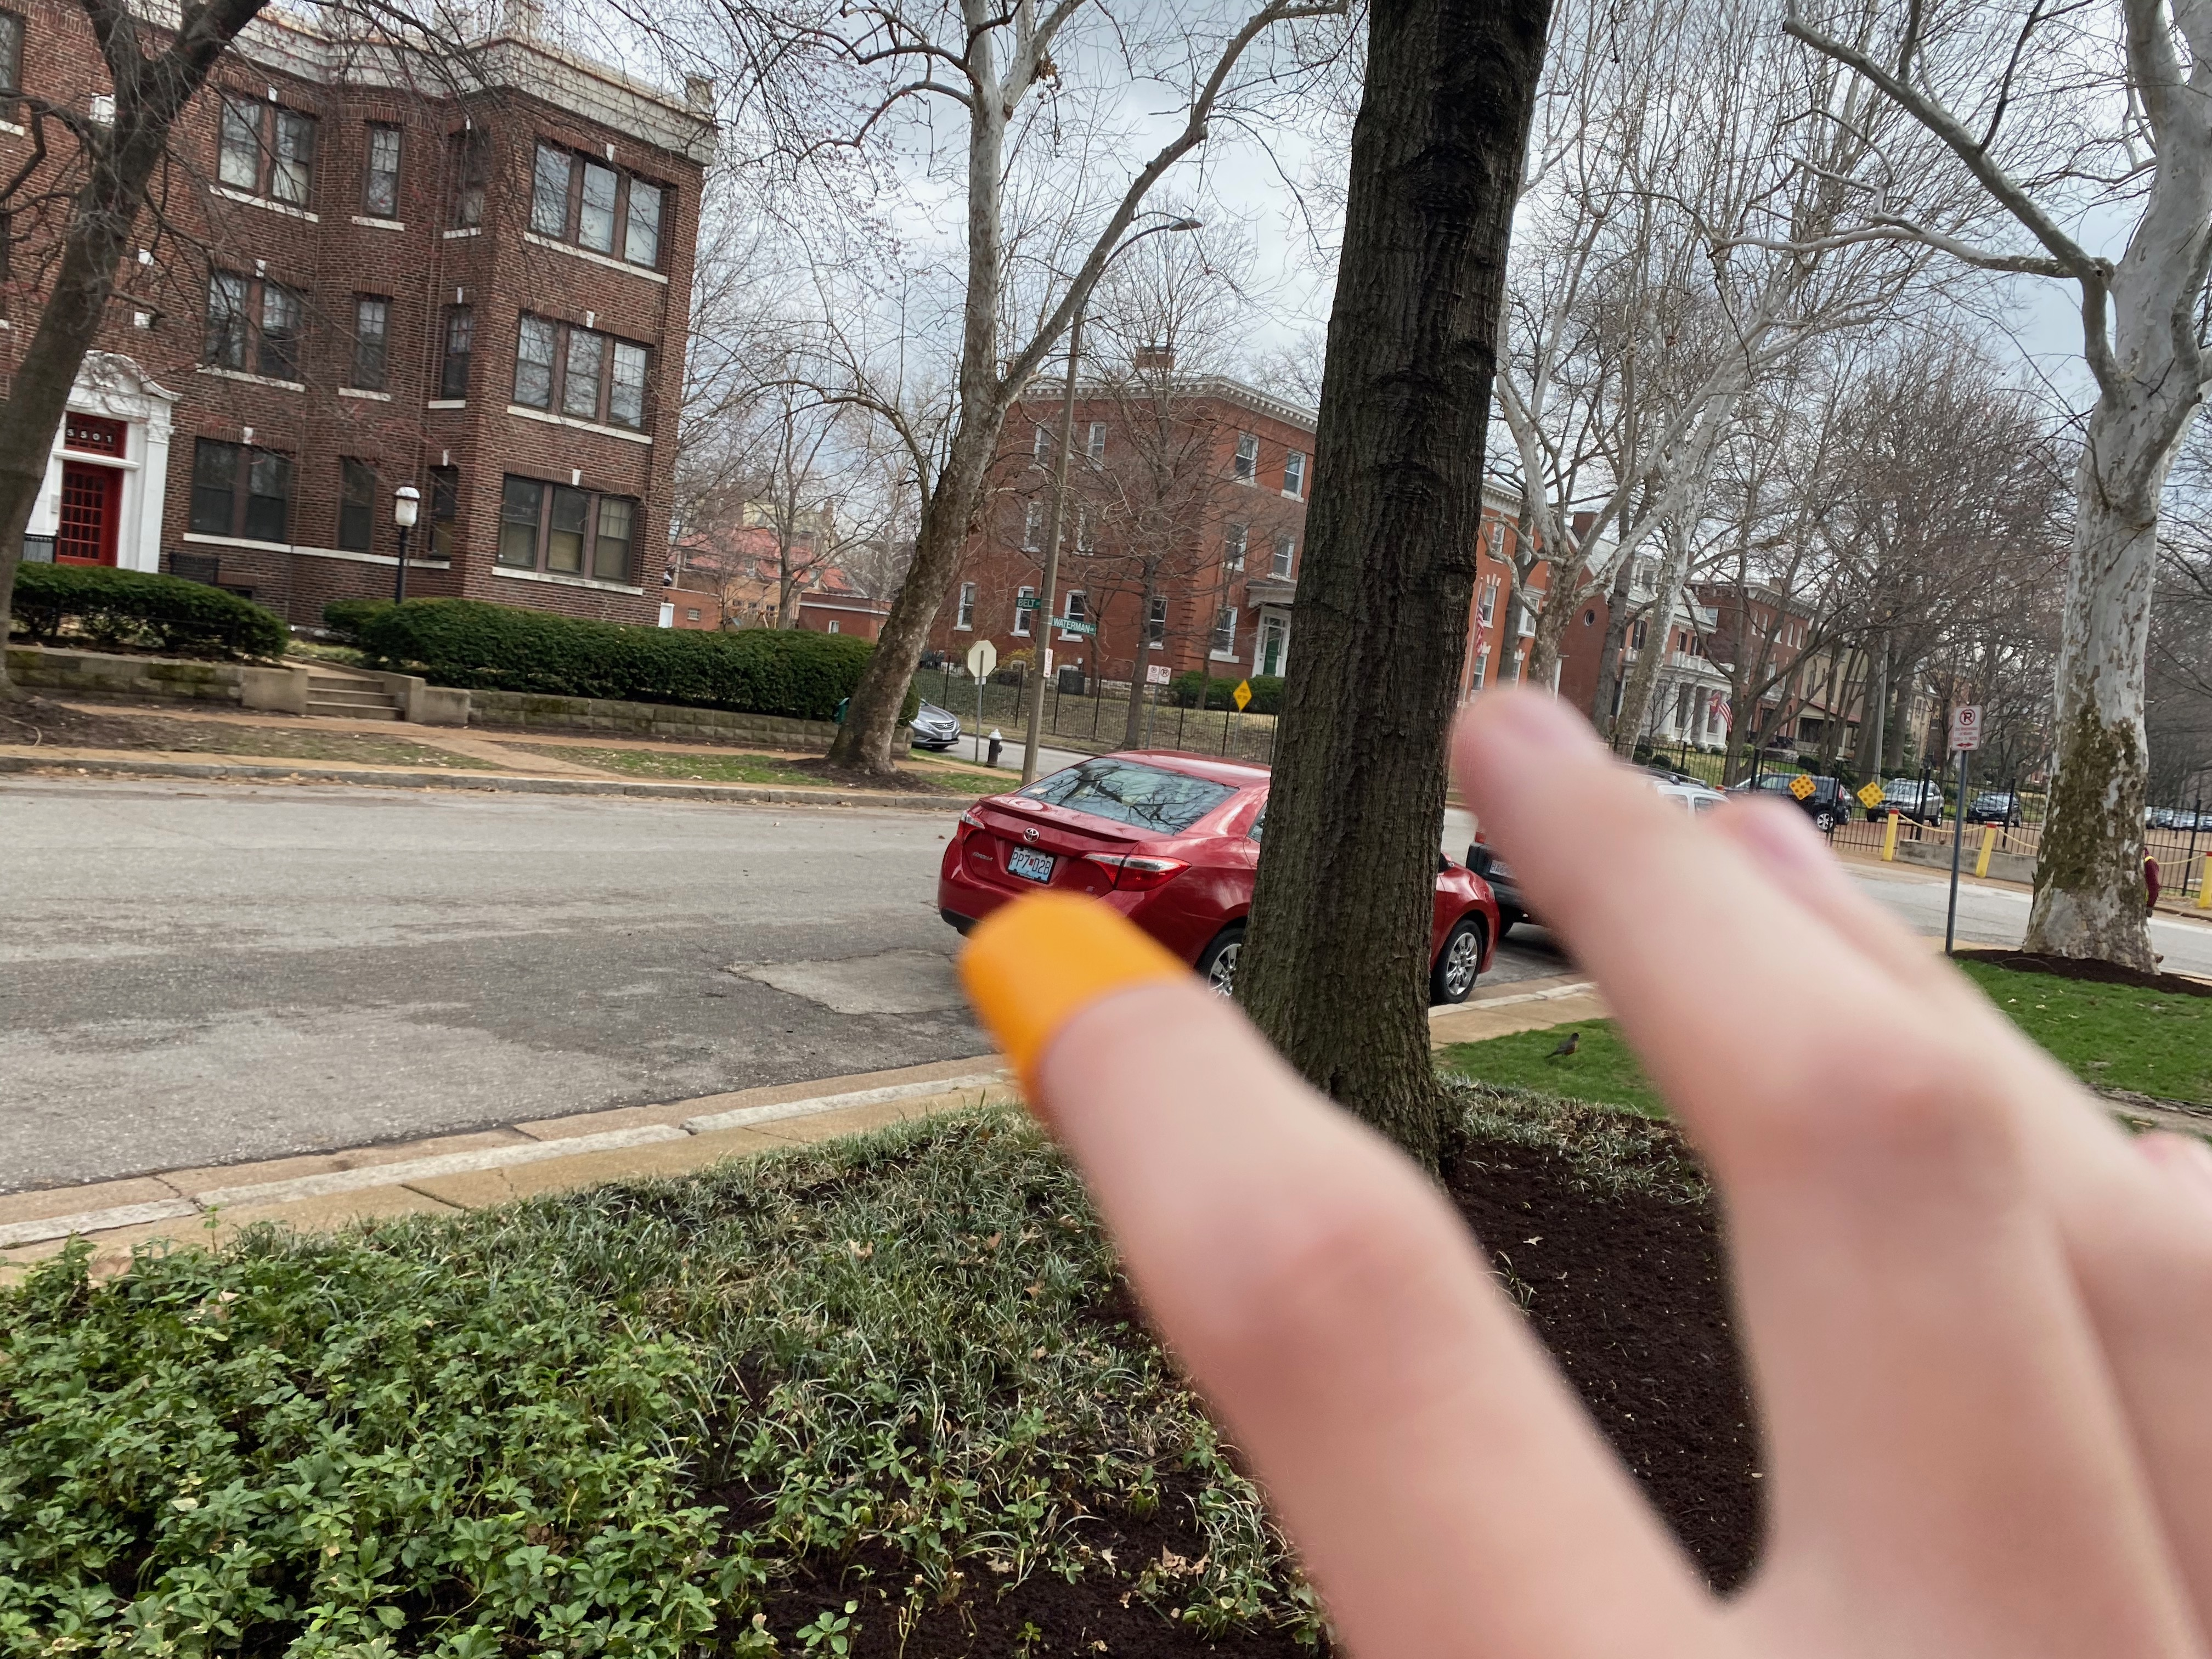fingertip: (895, 871, 1332, 1133)
